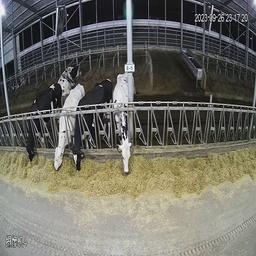cow: (73, 79, 113, 173), (28, 84, 64, 167), (52, 84, 85, 173), (114, 72, 137, 176), (57, 63, 82, 95)
